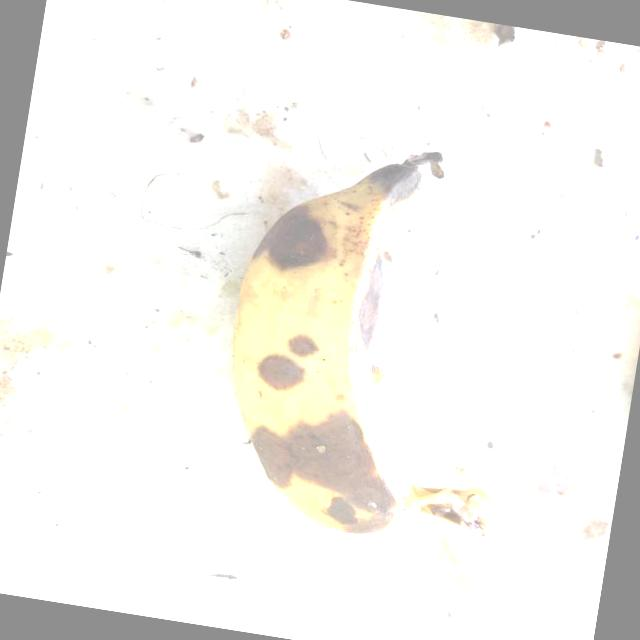Banana: (203, 123, 558, 558)
